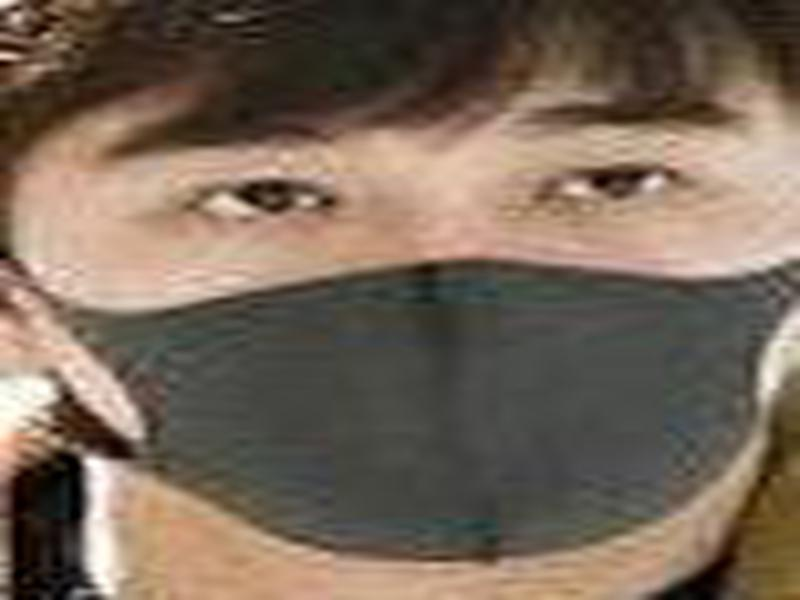with_mask: (4, 1, 798, 567)
